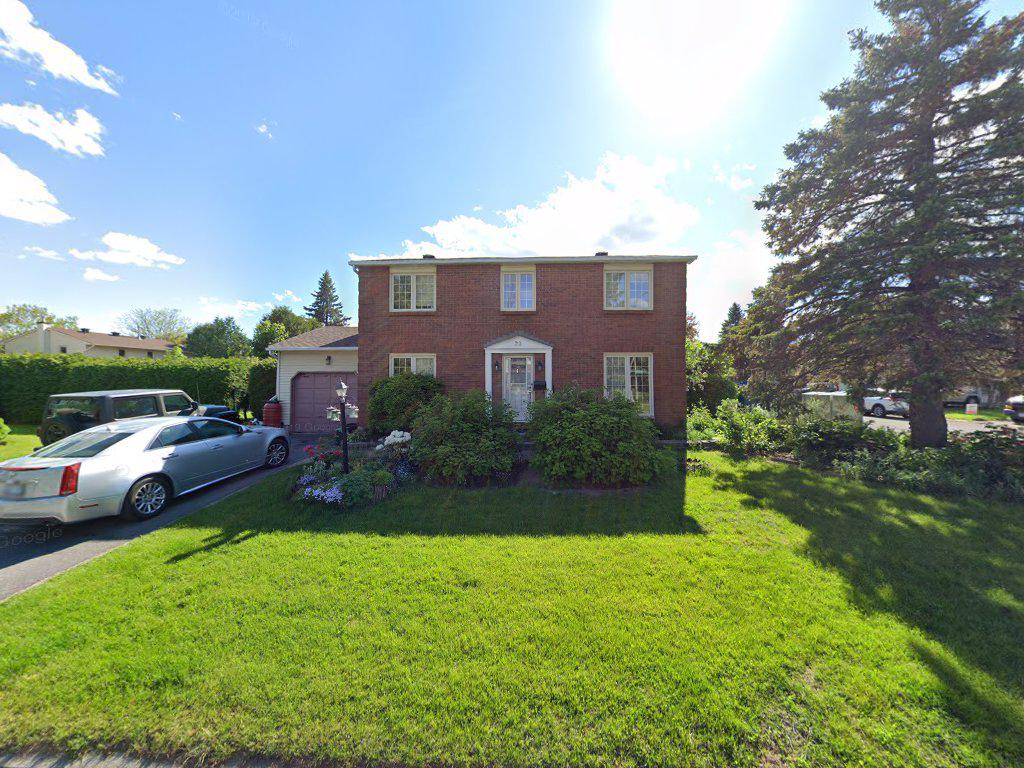trunk: (910, 362, 953, 460)
